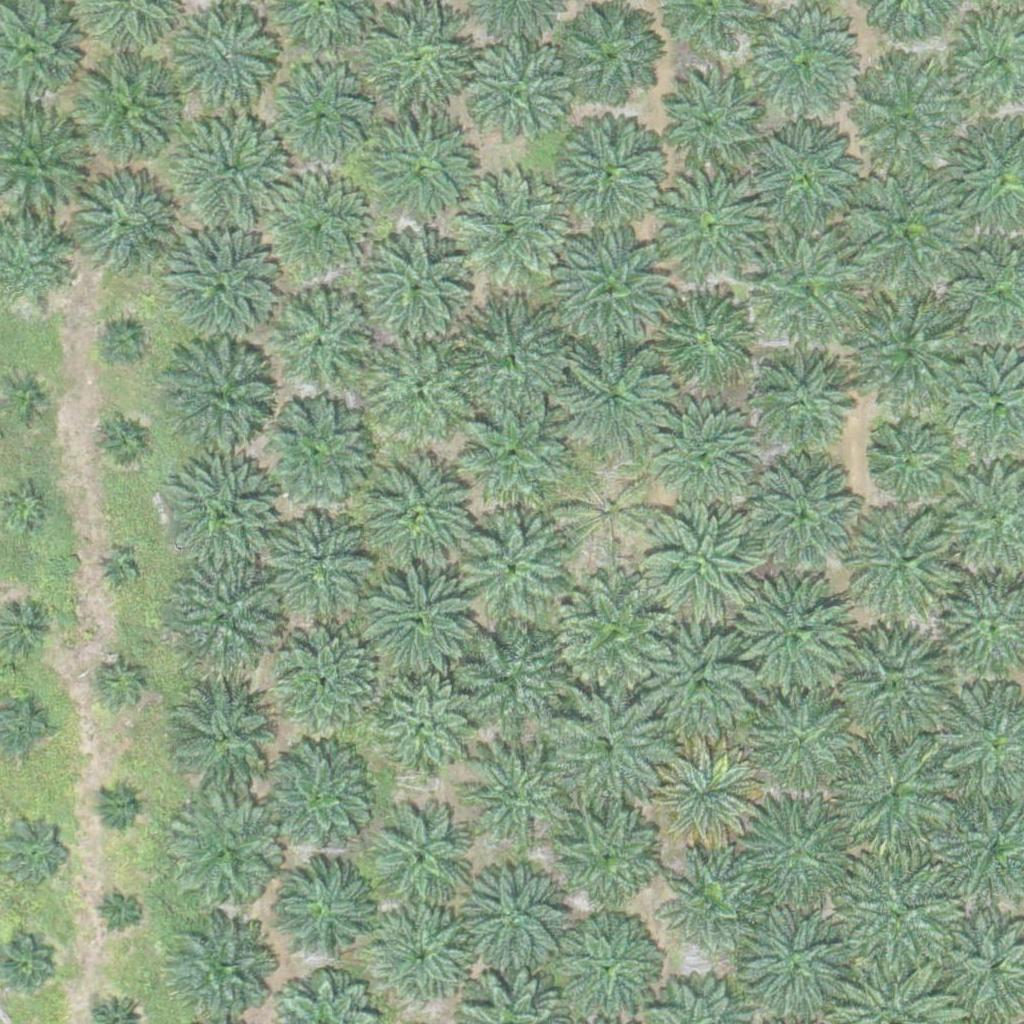Kelapa_Sawit: (354, 1, 479, 127), (364, 111, 489, 237), (847, 293, 972, 419), (831, 734, 956, 860), (837, 853, 962, 979), (349, 219, 474, 345), (178, 113, 291, 227), (848, 505, 961, 619), (652, 168, 765, 282), (747, 458, 860, 572), (171, 799, 284, 913), (848, 63, 961, 176), (661, 68, 774, 181), (554, 114, 667, 227), (834, 630, 947, 743), (735, 575, 848, 688), (64, 169, 177, 282), (168, 458, 281, 571), (169, 560, 282, 673), (169, 675, 282, 788), (256, 169, 369, 282), (365, 330, 478, 443), (452, 623, 565, 736), (460, 515, 573, 628), (456, 398, 569, 511), (450, 300, 563, 413), (556, 576, 669, 689), (750, 228, 863, 341), (650, 741, 763, 854), (552, 694, 665, 807), (548, 799, 661, 912), (261, 744, 374, 857), (70, 57, 182, 171), (456, 169, 568, 283), (556, 229, 668, 343), (651, 406, 763, 520), (748, 17, 860, 130), (752, 119, 864, 232), (465, 43, 577, 156), (849, 173, 961, 286), (747, 685, 859, 798), (737, 794, 849, 907), (737, 905, 849, 1018), (166, 235, 278, 348), (166, 347, 278, 460), (263, 396, 375, 509), (270, 281, 382, 394), (368, 454, 480, 567), (364, 561, 476, 674), (558, 341, 670, 454), (643, 625, 755, 738), (644, 503, 756, 616), (460, 739, 572, 852), (559, 463, 659, 564), (562, 6, 662, 107), (269, 74, 369, 175), (181, 14, 281, 115), (279, 627, 379, 728), (275, 513, 375, 614), (376, 681, 476, 782), (558, 919, 658, 1020), (465, 864, 565, 965), (373, 813, 473, 914), (654, 290, 754, 390), (753, 348, 853, 448), (374, 906, 474, 1006), (278, 860, 378, 960), (668, 856, 755, 945), (867, 424, 942, 500), (96, 656, 146, 707), (92, 780, 142, 831), (1, 375, 51, 425), (96, 888, 146, 938), (98, 316, 148, 366), (99, 419, 149, 469), (98, 551, 136, 589)
